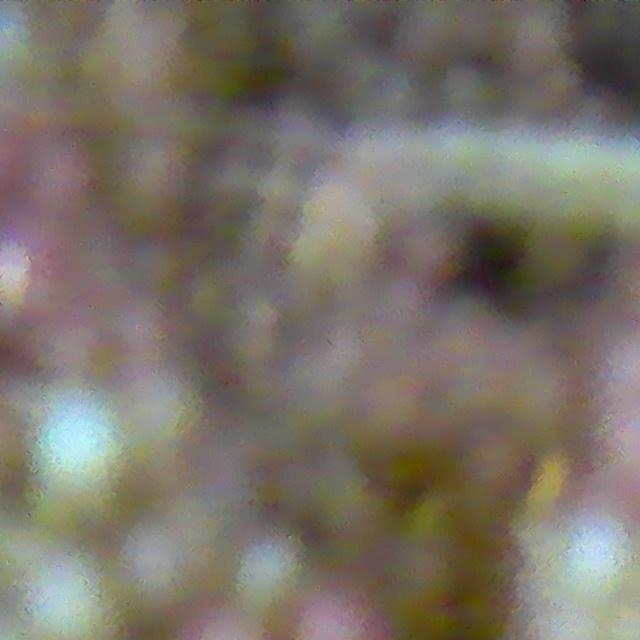SeaGrape: (23, 91, 88, 210), (25, 562, 116, 640), (231, 528, 308, 612)
